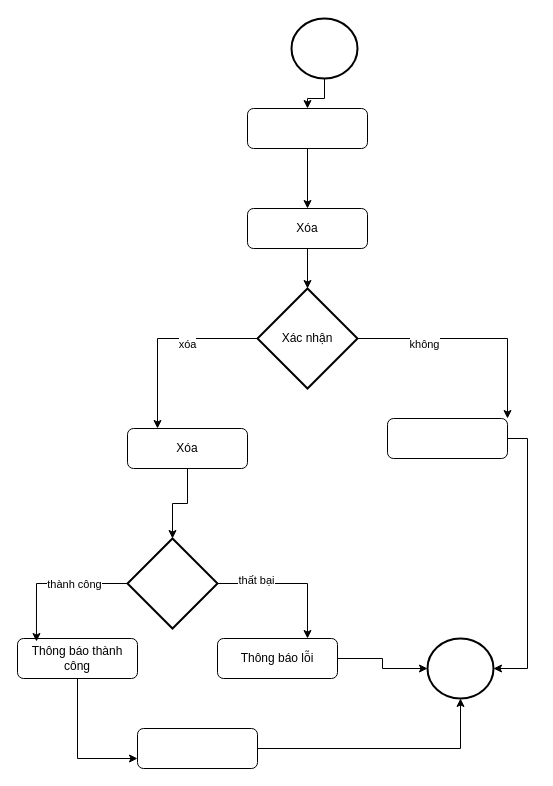
Image size: 553x786. Some labels were removed from this diagram. The shapes that lost their labels are listed below. From the top down, each one's centre as x and y in pixels, then its label:
At (x=307, y=128): "Hiển thị danh sách Banners".
At (x=447, y=438): "không xóa".
At (x=197, y=748): "lấy dữ liệu Banners mới".
